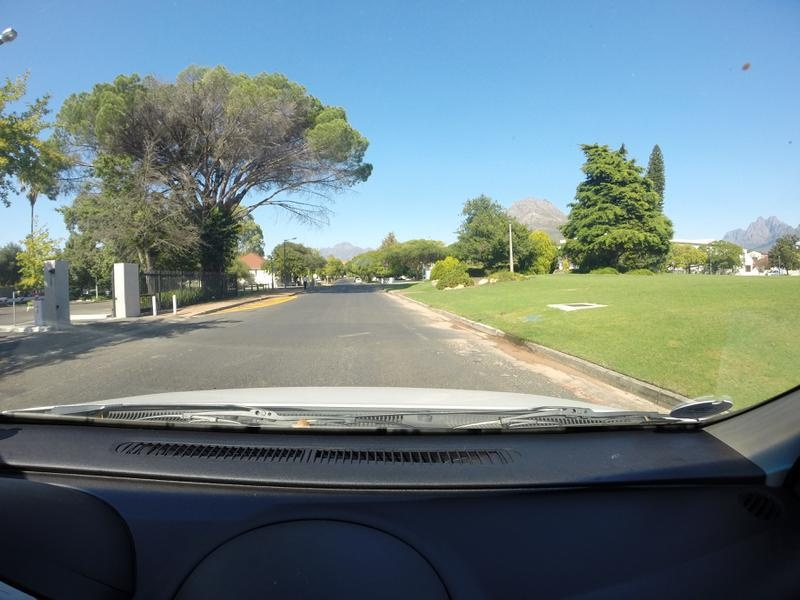pothole: (422, 336, 485, 361)
